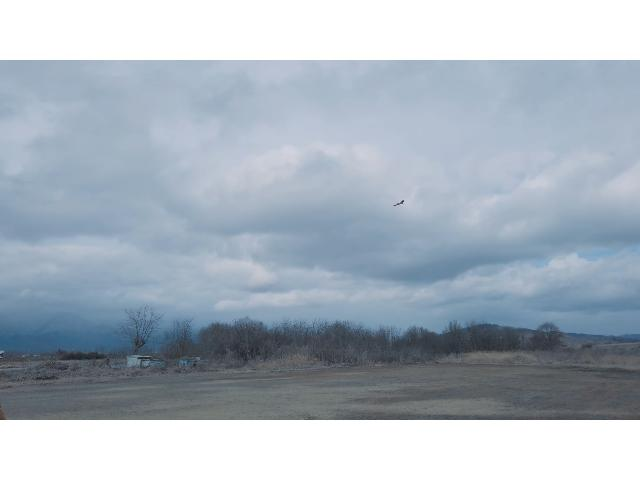Anti-Drone: (388, 197, 410, 207)
